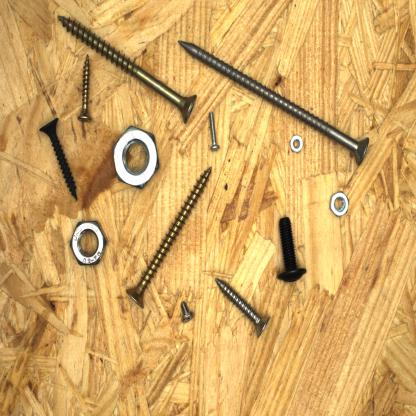screw: (177, 38, 372, 168), (53, 12, 200, 127), (124, 163, 214, 310), (36, 116, 80, 204), (213, 274, 271, 340), (272, 214, 309, 284), (76, 52, 95, 124), (206, 108, 222, 153), (176, 299, 198, 327)
